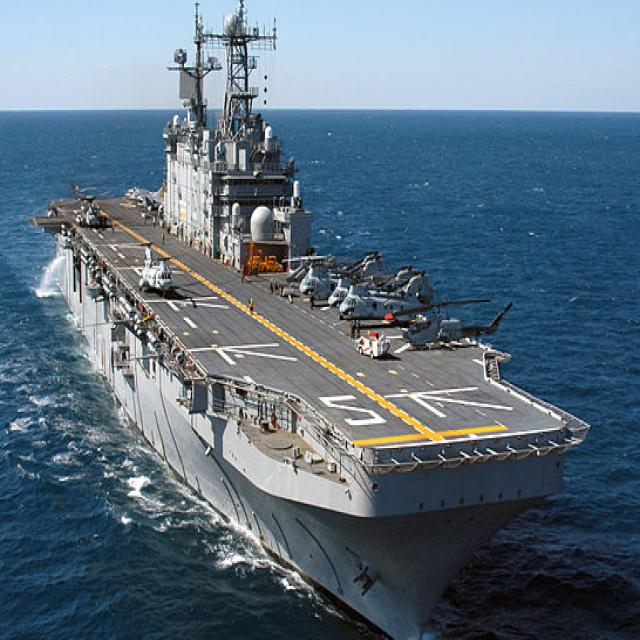navalvessels: (24, 0, 602, 633)
